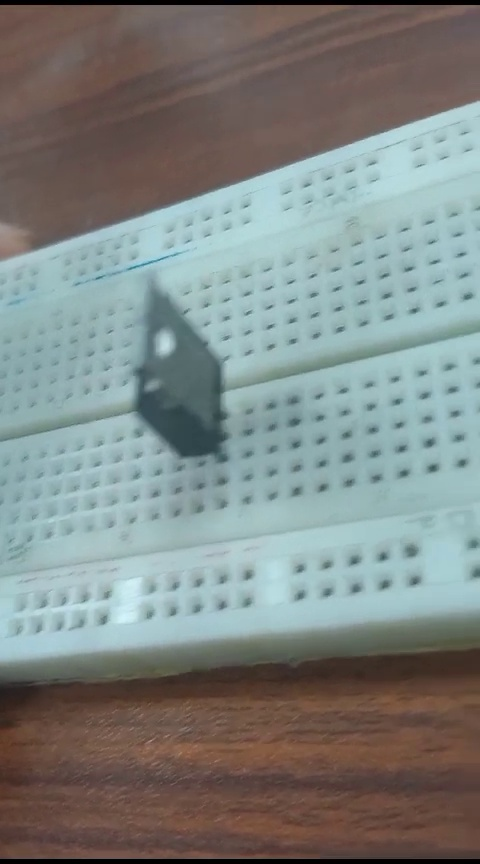voltage regulator: (121, 272, 240, 459)
